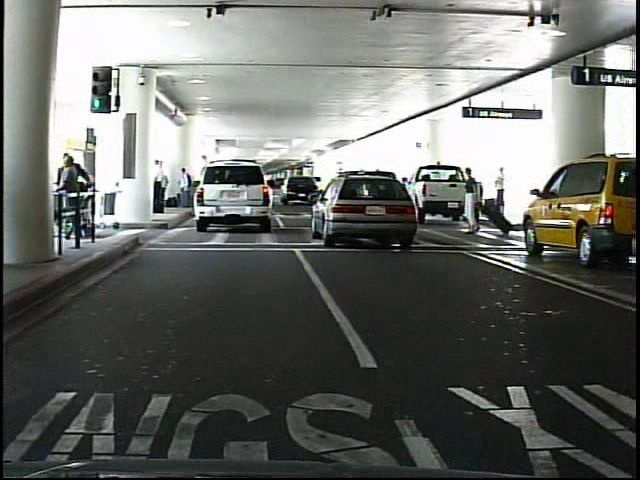person: (464, 165, 485, 236), (497, 165, 512, 217), (158, 157, 170, 217), (182, 167, 196, 210)
